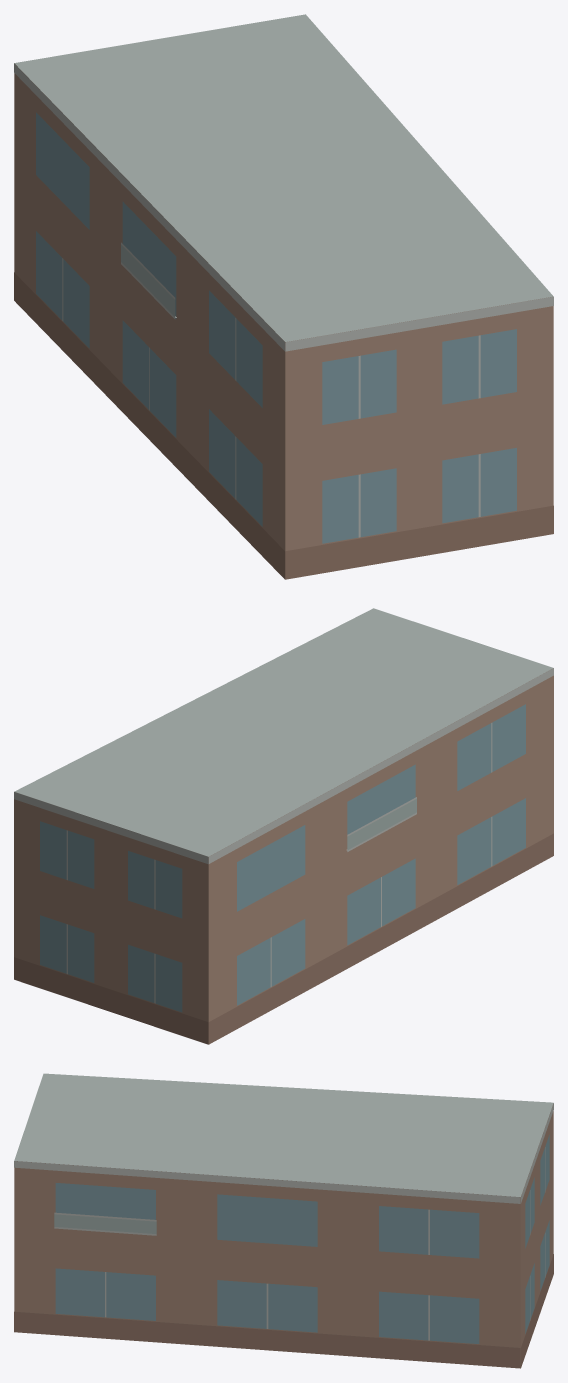
The model's file is survey-upis-32659138.glb.
3 renders of one model, top to bottom at view 1: azimuth 30°, elevation 25°; view 2: azimuth 150°, elevation 25°; view 3: azimuth 270°, elevation 25°, orthographic. The views are drawn at different scales.
Visible parts, largest first — view 1: survey-upis-32659138.tmp; view 2: survey-upis-32659138.tmp; view 3: survey-upis-32659138.tmp.
Boxes of the visible parts, <box> form: survey-upis-32659138.tmp: <box>14,14,553,579</box>; survey-upis-32659138.tmp: <box>14,608,553,1044</box>; survey-upis-32659138.tmp: <box>14,1073,553,1368</box>.
Bounding box in the file's own units: 9.46 × 6.1 × 17.43.
